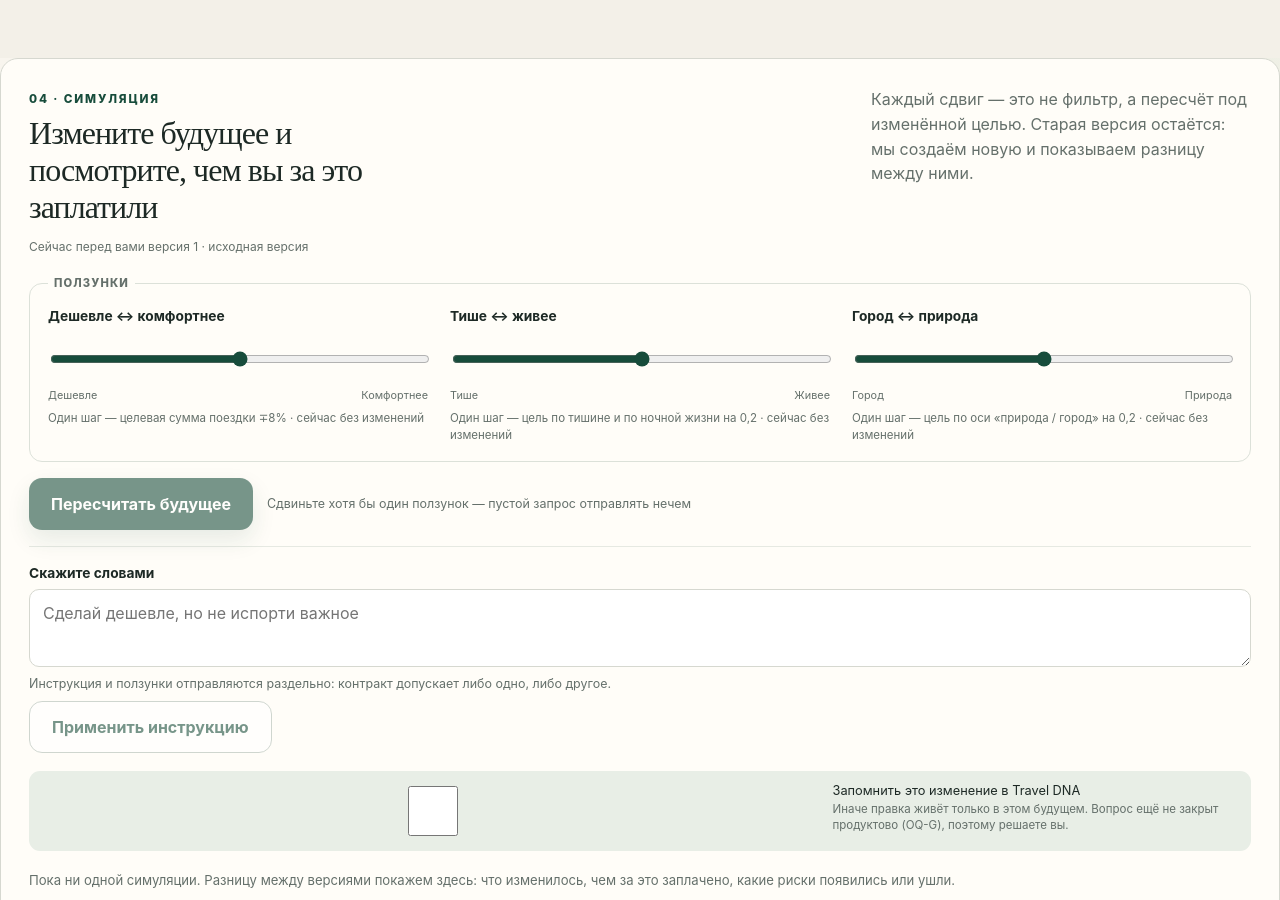
Test case: SimulatorPanel › renders the no_solution reason and alternatives rather than a success state
In the text box labelled "Скажите словами": (640, 628) [29,589,1251,667], type "Сделай дешевле в два раза"
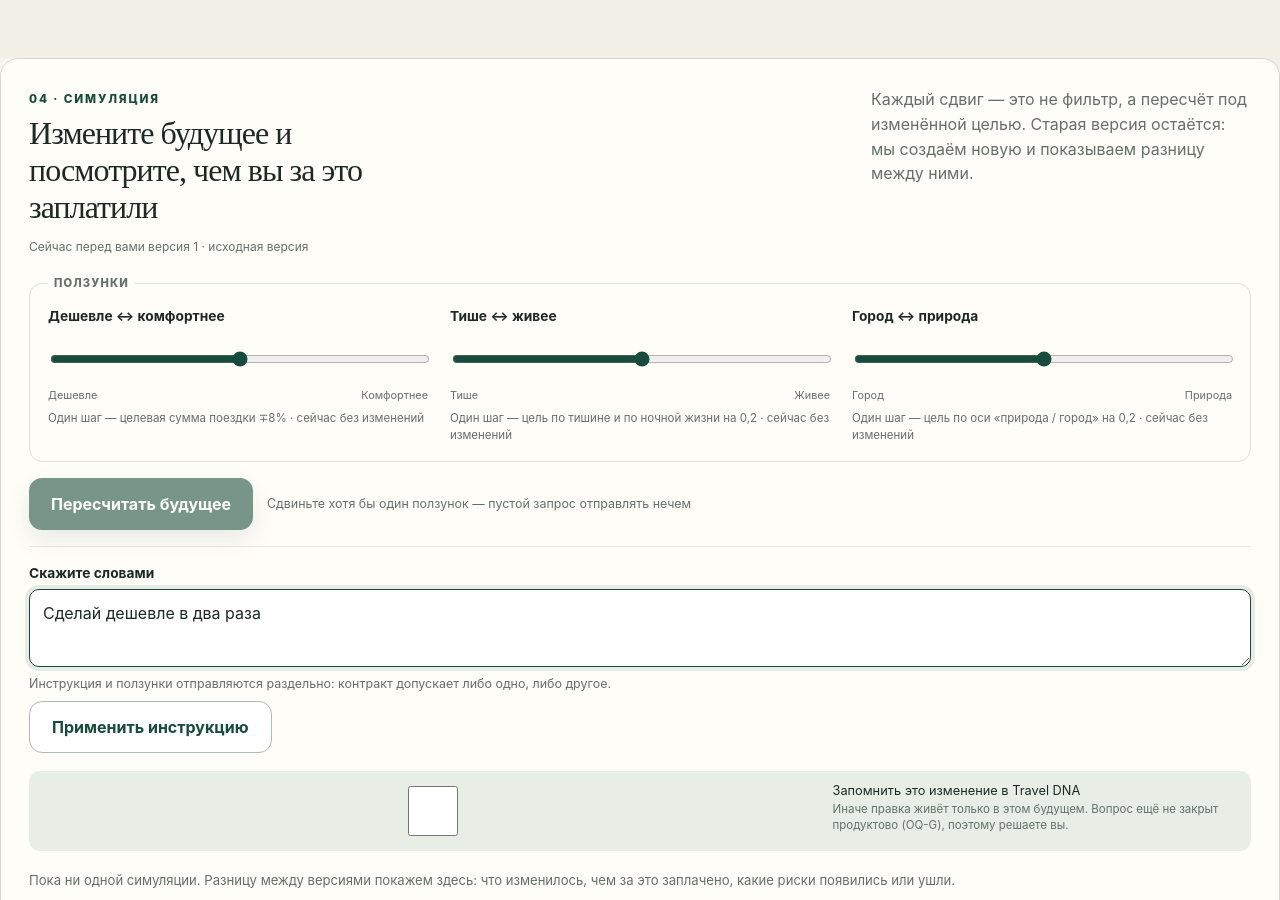
Click the button "Применить инструкцию": (150, 727) [29,701,272,753]
(page scrolled)
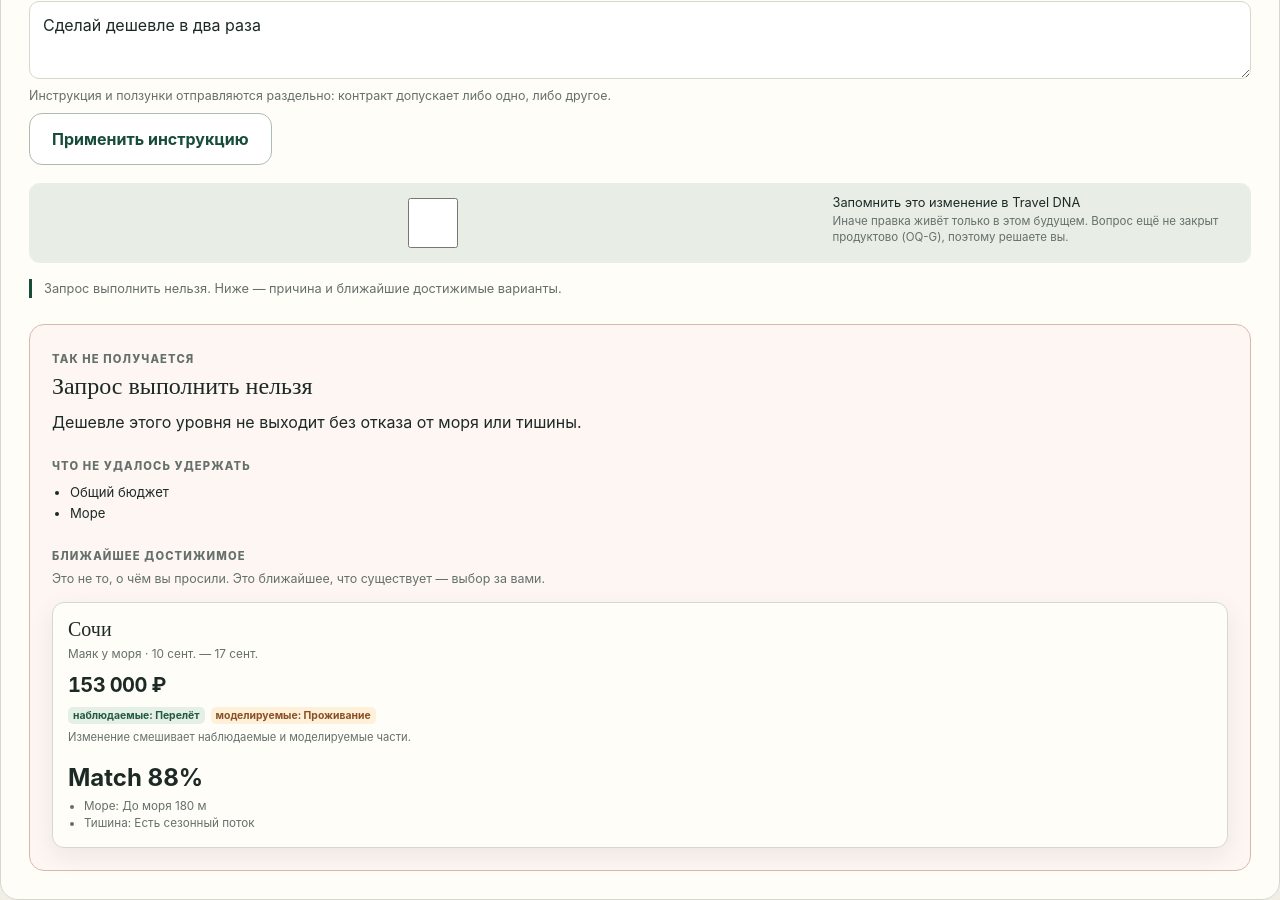
Expected: the heading "Запрос выполнить нельзя" is shown, [52,373,312,399]
Expected: the text "Дешевле этого уровня не выходит без отказа от моря или тишины." is shown, [52,412,582,432]
Expected: the list item "Общий бюджет" is shown, [70,484,169,500]
